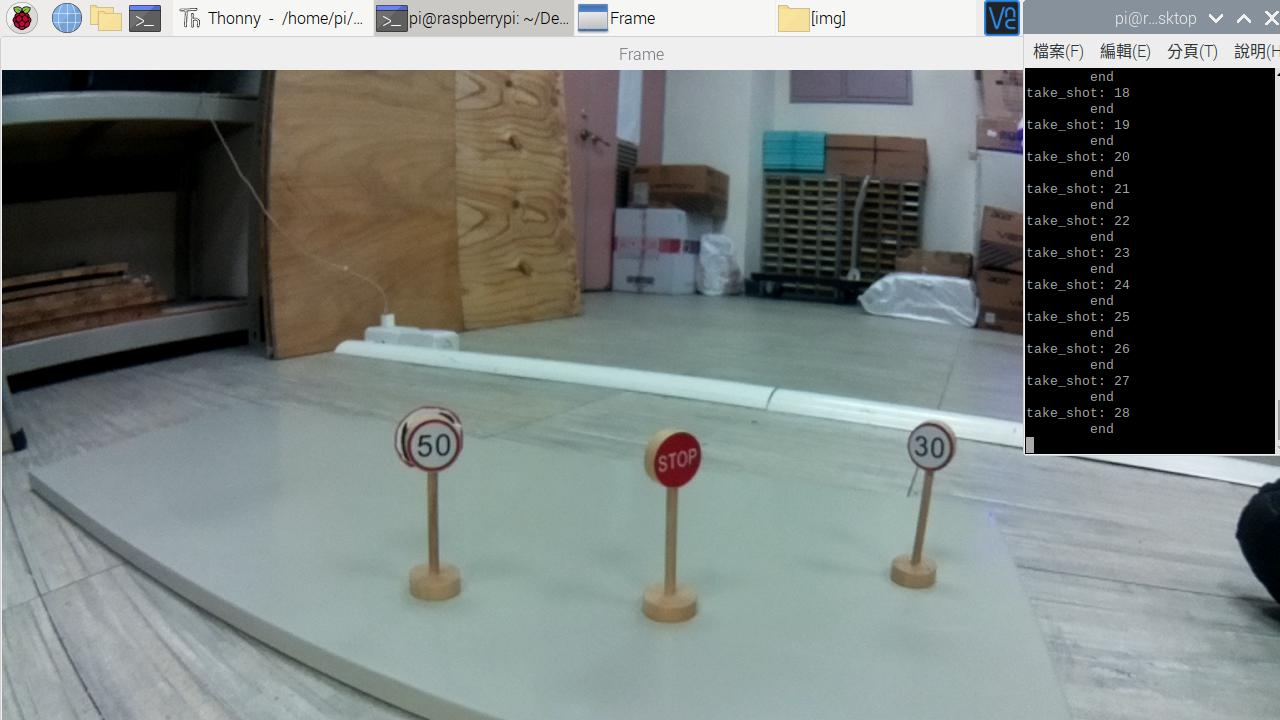Speed30: (909, 416, 954, 469)
Speed50: (411, 421, 462, 465)
Stop: (646, 426, 705, 486)
